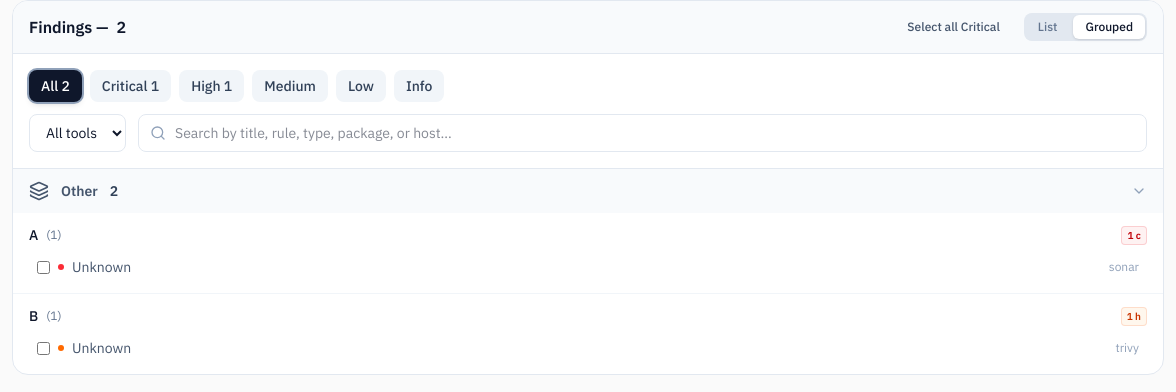
Test: shows a Filtered chip when severity filter is active
The width and height of the screenshot is (1176, 392).
Check: the text "Filtered" is not shown
Click the button "Critical 1" at (131, 86), box [90,70,171,102]
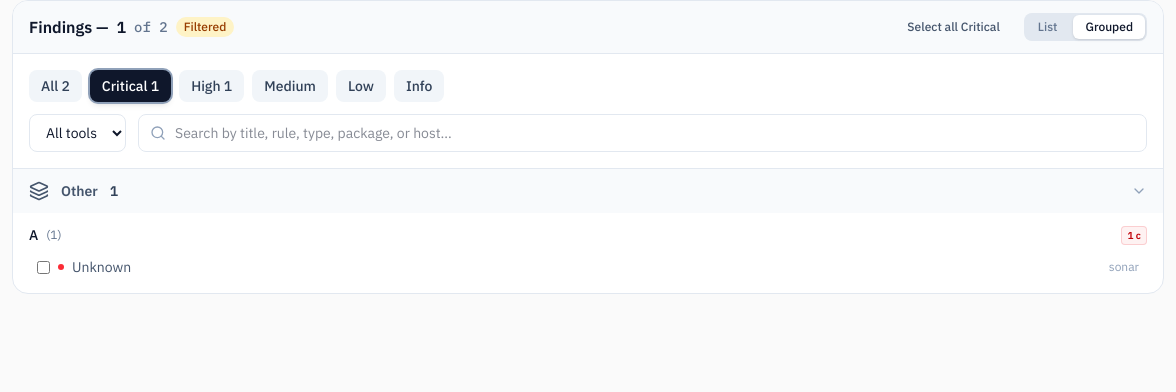
Check: the text "Filtered" is shown, box [176,17,234,37]
